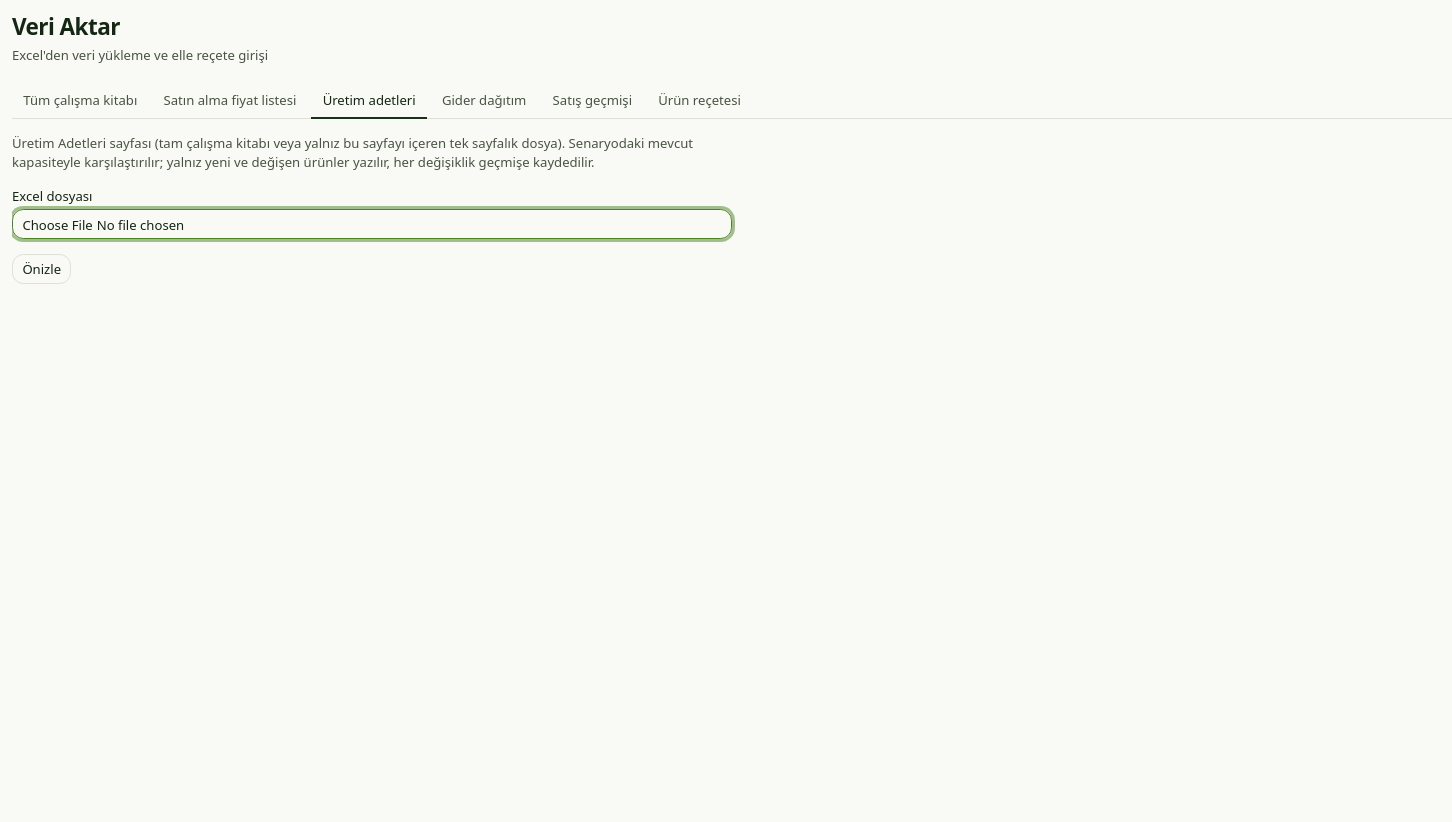
Veri Aktar - üretim adetleri › uygulama 422 verirse hata listelenir ve özet görünmez
Earlier steps of the test are not shown.
Click the button "Önizle".
click(42, 269)  # box [12, 254, 71, 284]
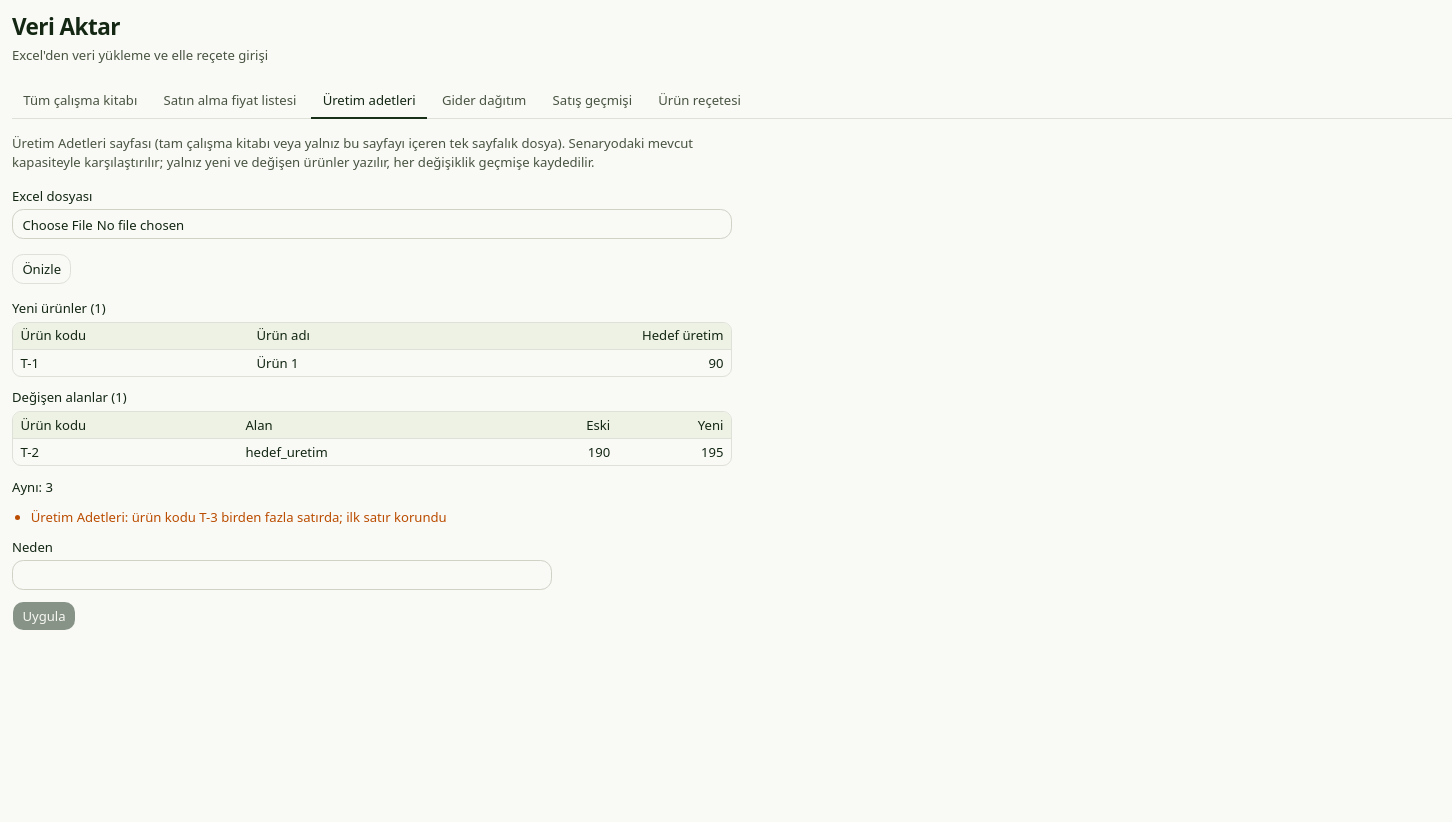
Type "x" into the field labelled "Neden".
click(282, 575); type("x")  # box [12, 560, 552, 590]
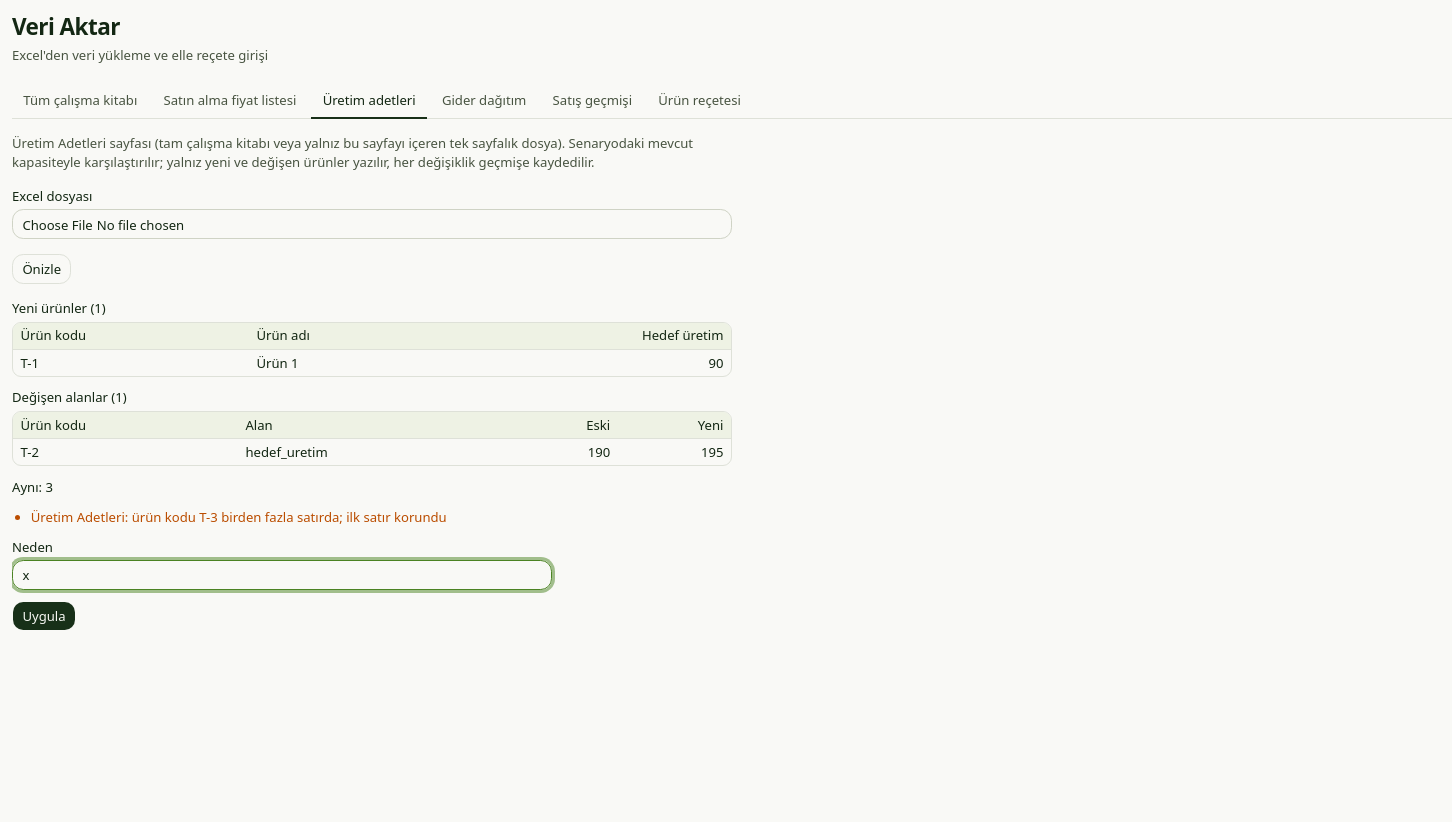
Click the button "Uygula".
click(44, 616)  # box [12, 601, 76, 631]
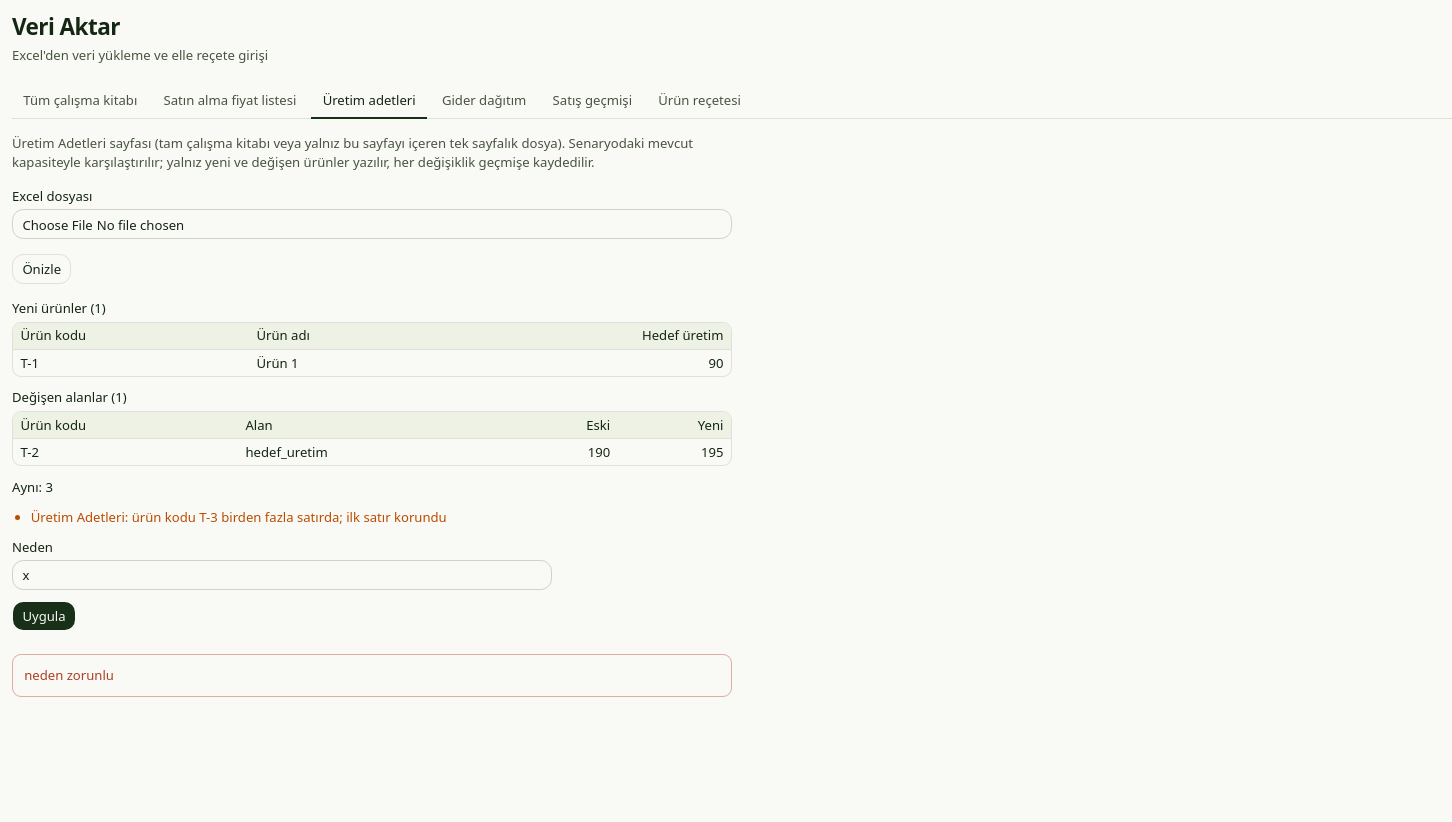
Expected: the message reads "neden zorunlu", [24, 666, 114, 684]
